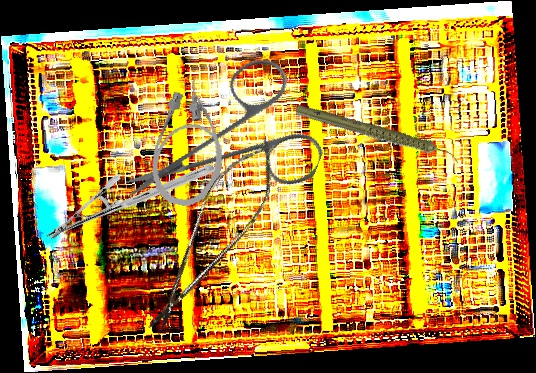Cannula: (144, 71, 239, 212)
Handpiece: (292, 73, 462, 197)
Iris Scissors: (122, 27, 347, 256)
Micro Scissor: (132, 126, 295, 347)
Needle Holder: (45, 111, 216, 293)
